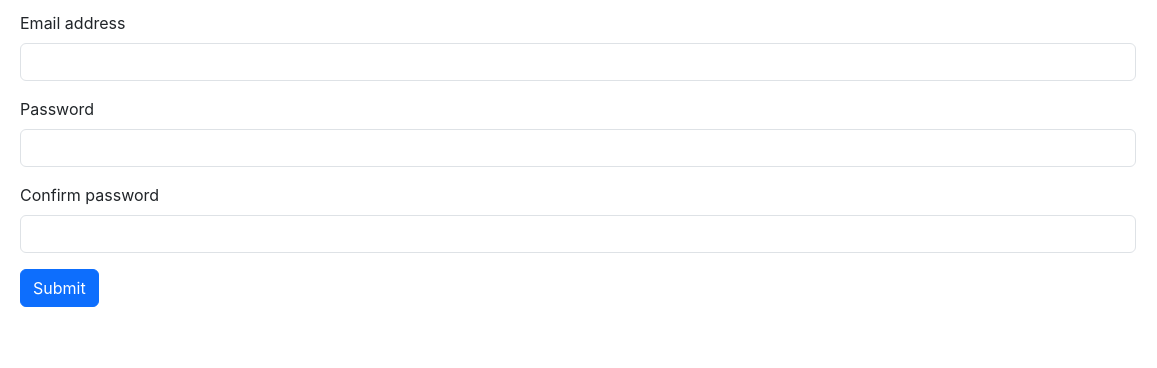
Scenario: Form validation › Should show email error message on invalid email
The width and height of the screenshot is (1157, 368).
expect the text "the email is invalid" is not shown: met
In the field labelled "Email address": {"x": 578, "y": 62} [20,43,1136,81], type "selenagmail.com"
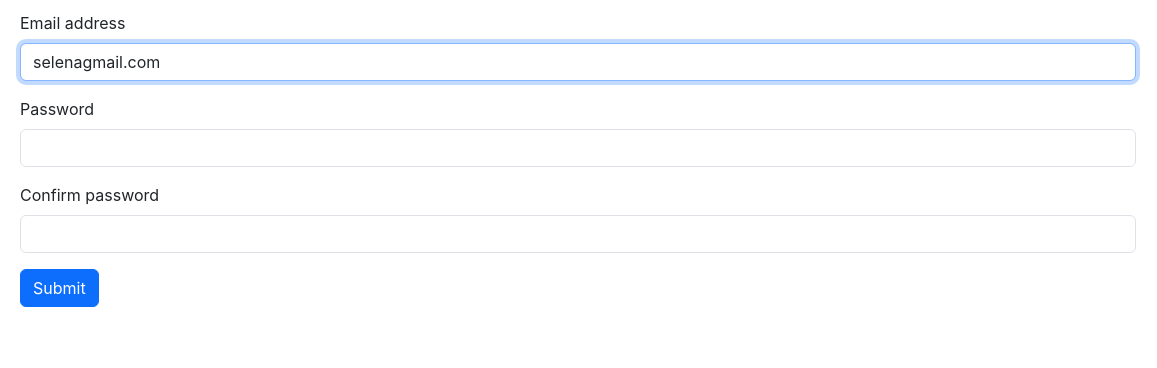
Click the button "Submit": {"x": 59, "y": 288} [20,269,99,307]
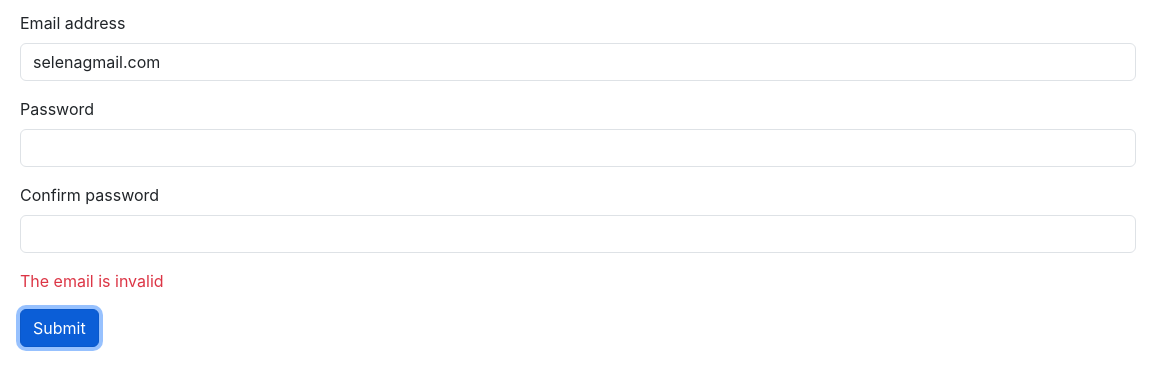
expect the text "The email is invalid" is shown: met, box [20,271,164,291]
